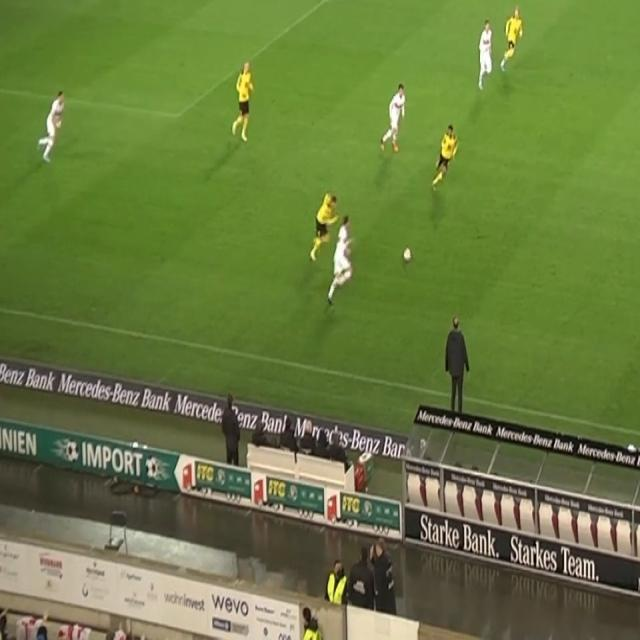ball: (403, 244, 412, 263)
